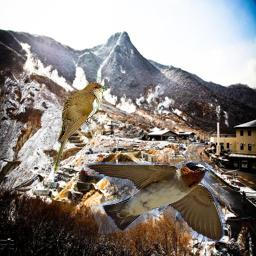Cuckoo: (54, 81, 109, 174)
Swallow: (85, 162, 225, 242)
